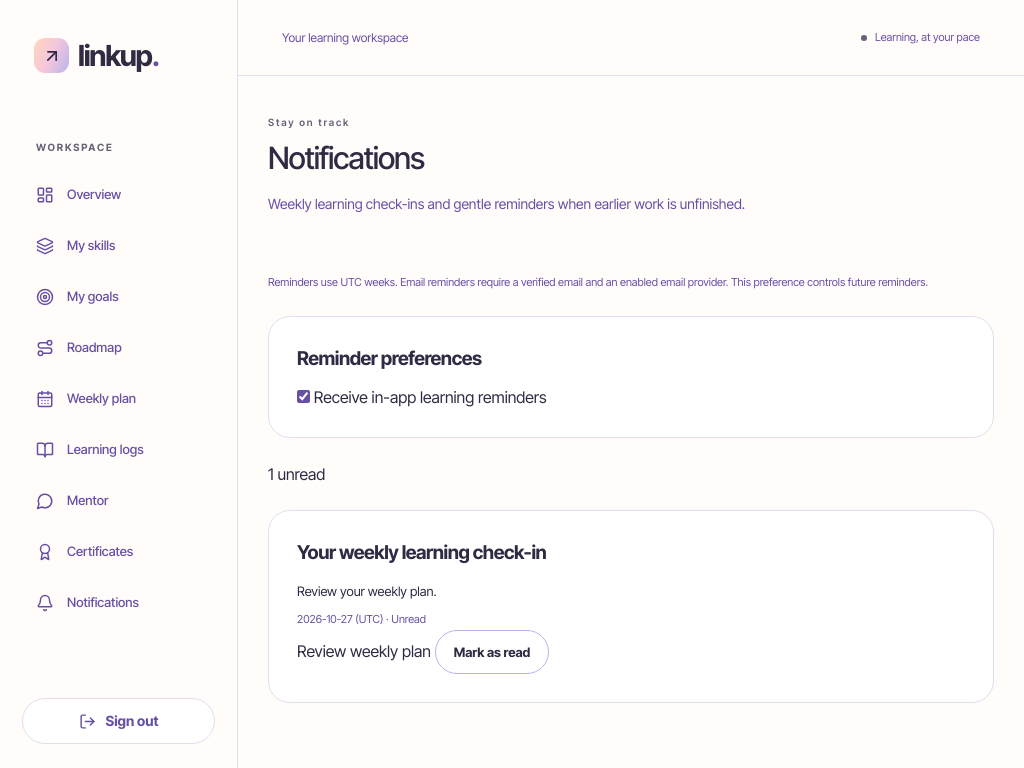
Test: notification inbox › shows unread notices and marks them read after saving
Expected: the text "1 unread" is shown, [268,464,325,484]
Step 1. Click the button "Mark as read" → (492, 652), box [435,630,549,674]
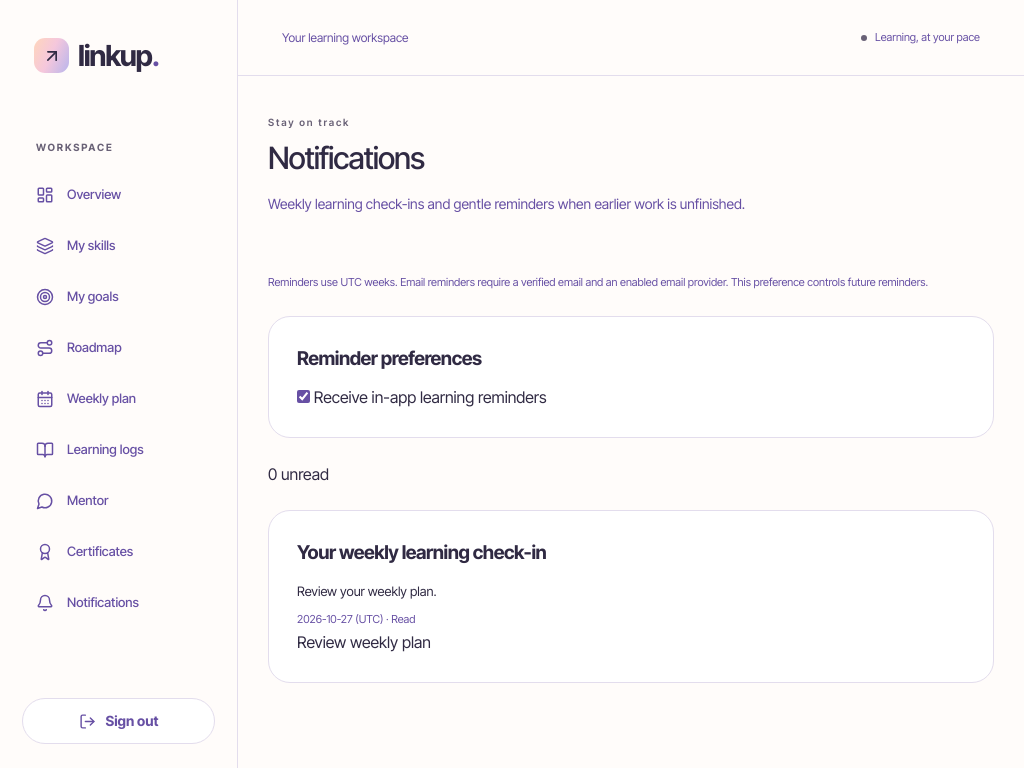
Expected: the text "0 unread" is shown, [268,464,329,484]
Expected: the button "Mark as read" is gone
